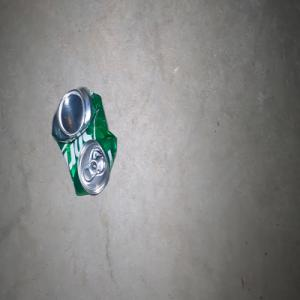SodaCan: (51, 86, 116, 195)
